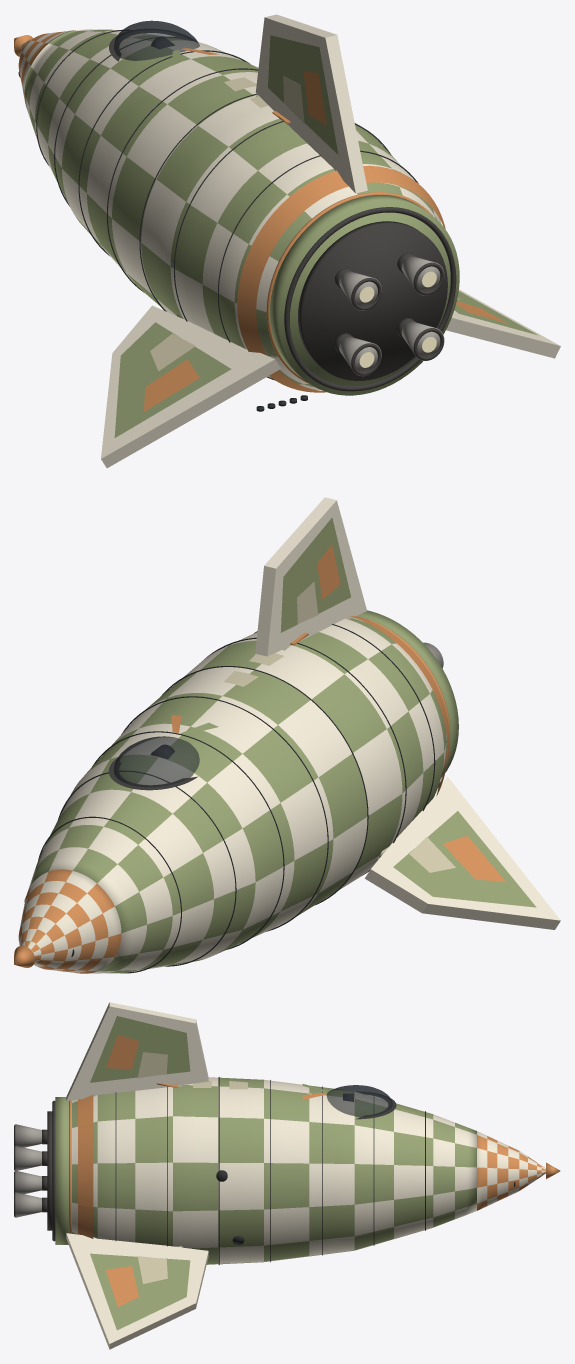
File: Ship_LunarCourier_451424.glb
3 renders of one model, top to bottom at view 1: azimuth 30°, elevation 25°; view 2: azimuth 150°, elevation 25°; view 3: azimuth 270°, elevation 25°, orthographic. The views are drawn at different scales.
Parts seen in each view (by area): view 1: Fuselage_TaperedPaintedBody, EngineDeck_AftDarkMountPlate, TailFin_LeftLower_broad_CreamAerofoil, AftCollar_PrimaryEngineBand, TailFin_Dorsal_broad_CreamAerofoil, PaintBand_AftPrimaryCollar, TailFinPanel_LeftLower_PrimarySide_B, TailFinPanel_Dorsal_PrimarySide_A, AftTrimRing_DarkRear, CanopyGlass_DorsalLowInsetDome, TailFin_RightLower_broad_CreamAerofoil, TailFinCheckerPatch_LeftLower_01_B (+12 smaller); view 2: Fuselage_TaperedPaintedBody, NoseCone_PaintedNeedleSection, TailFin_LeftLower_broad_CreamAerofoil, TailFin_Dorsal_broad_CreamAerofoil, TailFinPanel_LeftLower_PrimarySide_B, CanopyGlass_DorsalLowInsetDome, TailFinPanel_Dorsal_PrimarySide_A, AftCollar_PrimaryEngineBand, TailFinCheckerPatch_LeftLower_01_B, PaintBand_AftPrimaryCollar, TailFinCheckerPatch_LeftLower_02_B, TailFinCheckerPatch_Dorsal_01_A (+6 smaller); view 3: Fuselage_TaperedPaintedBody, TailFin_RightLower_broad_CreamAerofoil, TailFin_Dorsal_broad_CreamAerofoil, TailFinPanel_RightLower_PrimarySide_A, TailFinPanel_Dorsal_PrimarySide_B, NoseCone_PaintedNeedleSection, PaintBand_AftPrimaryCollar, AftCollar_PrimaryEngineBand, CanopyGlass_DorsalLowInsetDome, TailFinCheckerPatch_RightLower_01_A, TailFinCheckerPatch_Dorsal_01_B, EngineDeck_AftDarkMountPlate (+7 smaller).
Part boxes in pixels (x1,y1,x2,y2): Fuselage_TaperedPaintedBody: (24,29,441,389); EngineDeck_AftDarkMountPlate: (298,221,447,380); TailFin_LeftLower_broad_CreamAerofoil: (101,305,280,468); AftCollar_PrimaryEngineBand: (269,195,459,395); TailFin_Dorsal_broad_CreamAerofoil: (255,14,367,193); PaintBand_AftPrimaryCollar: (237,165,445,392); TailFinPanel_LeftLower_PrimarySide_B: (114,322,231,437); TailFinPanel_Dorsal_PrimarySide_A: (268,35,338,154); AftTrimRing_DarkRear: (284,207,456,391); CanopyGlass_DorsalLowInsetDome: (114,20,199,60); TailFin_RightLower_broad_CreamAerofoil: (446,289,560,358); TailFinCheckerPatch_LeftLower_01_B: (144,359,199,411); Fuselage_TaperedPaintedBody: (28,617,447,973); NoseCone_PaintedNeedleSection: (18,869,121,973); TailFin_LeftLower_broad_CreamAerofoil: (365,776,560,929); TailFin_Dorsal_broad_CreamAerofoil: (255,497,366,656); TailFinPanel_LeftLower_PrimarySide_B: (393,811,536,907); CanopyGlass_DorsalLowInsetDome: (113,736,199,787); TailFinPanel_Dorsal_PrimarySide_A: (280,517,350,632); AftCollar_PrimaryEngineBand: (357,610,458,778); TailFinCheckerPatch_LeftLower_01_B: (443,836,505,881); PaintBand_AftPrimaryCollar: (350,616,449,795); TailFinCheckerPatch_LeftLower_02_B: (409,837,455,872); TailFinCheckerPatch_Dorsal_01_A: (317,544,340,599); Fuselage_TaperedPaintedBody: (72,1077,476,1264); TailFin_RightLower_broad_CreamAerofoil: (66,1233,208,1349); TailFin_Dorsal_broad_CreamAerofoil: (66,1002,208,1101); TailFinPanel_RightLower_PrimarySide_A: (90,1253,190,1330); TailFinPanel_Dorsal_PrimarySide_B: (90,1016,190,1082); NoseCone_PaintedNeedleSection: (477,1131,545,1210); PaintBand_AftPrimaryCollar: (78,1095,93,1238); AftCollar_PrimaryEngineBand: (55,1097,68,1244); CanopyGlass_DorsalLowInsetDome: (326,1085,392,1117); TailFinCheckerPatch_RightLower_01_A: (106,1266,138,1307); TailFinCheckerPatch_Dorsal_01_B: (105,1035,138,1069); EngineDeck_AftDarkMountPlate: (47,1111,52,1230).
Bounding box in the file's own units: 5.06 × 3.97 × 7.32.
